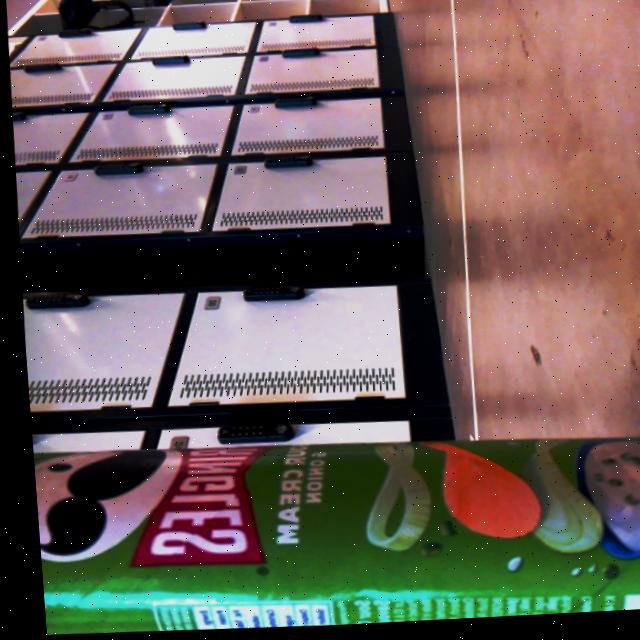greenpringles: (24, 392, 640, 640)
